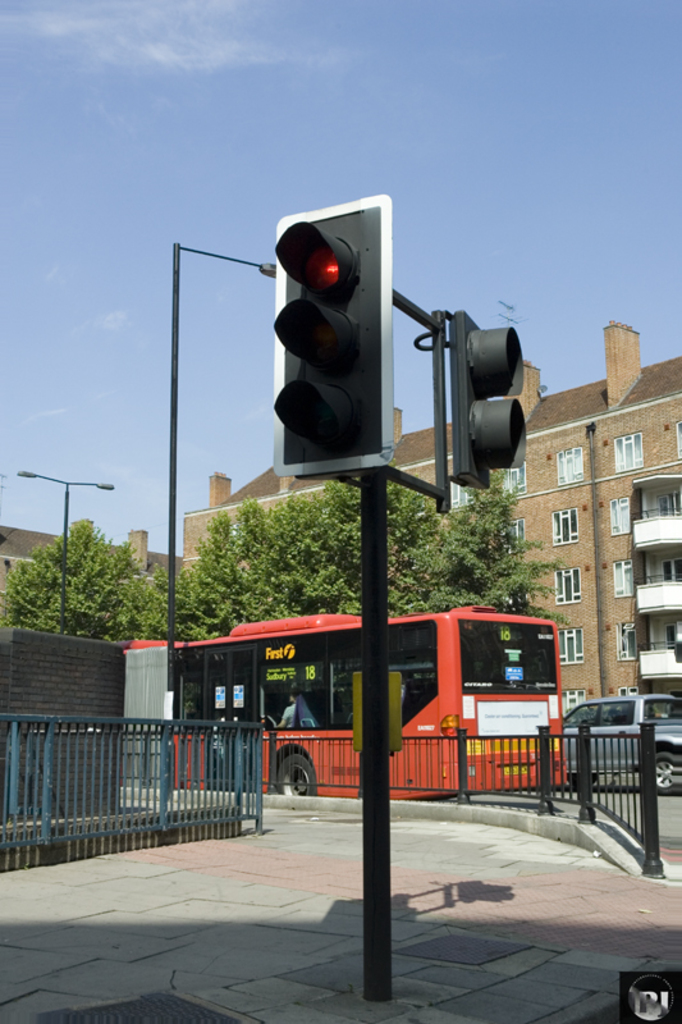red_light: (279, 221, 367, 446)
